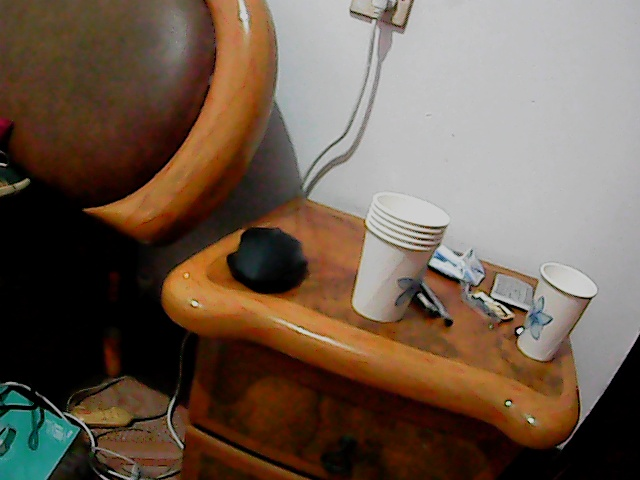cup: (352, 190, 446, 327)
mouse: (228, 221, 310, 295)
